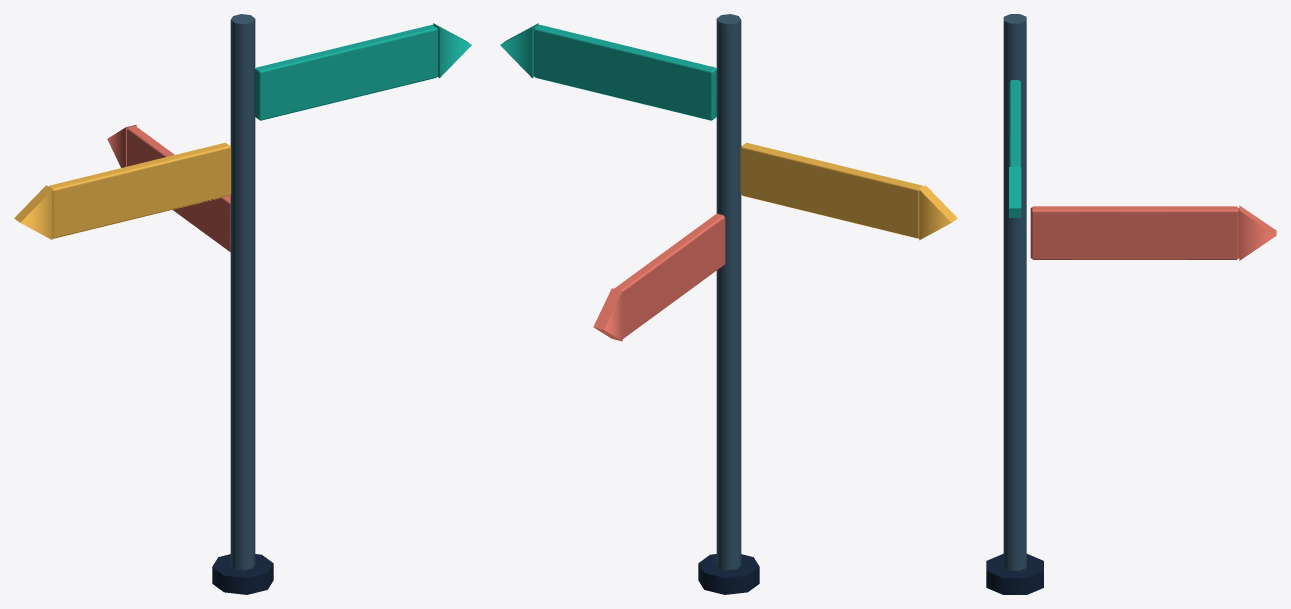
Rendered from CM_Prop_StreetSign.fbx.
The picture shows the model from 3 angles, left to right: view 1: azimuth 30°, elevation 25°; view 2: azimuth 150°, elevation 25°; view 3: azimuth 270°, elevation 25°; orthographic projection.
Parts seen in each view (by area): view 1: Body, Blade2, Blade1, Blade3; view 2: Body, Blade2, Blade1, Blade3; view 3: Body, Blade3, Blade1.
Part boxes in pixels (x1,y1,x2,y2): Body: (212, 14, 273, 594); Blade2: (14, 142, 231, 240); Blade1: (255, 23, 471, 120); Blade3: (107, 124, 230, 251); Body: (698, 14, 759, 594); Blade2: (740, 142, 957, 240); Blade1: (500, 23, 716, 120); Blade3: (593, 213, 725, 341); Body: (986, 14, 1043, 594); Blade3: (1030, 205, 1276, 260); Blade1: (1009, 80, 1021, 217).
Size of the model in its own units: 8.4 by 4.66 by 10.
Materials: 1 (1 with a texture image).
